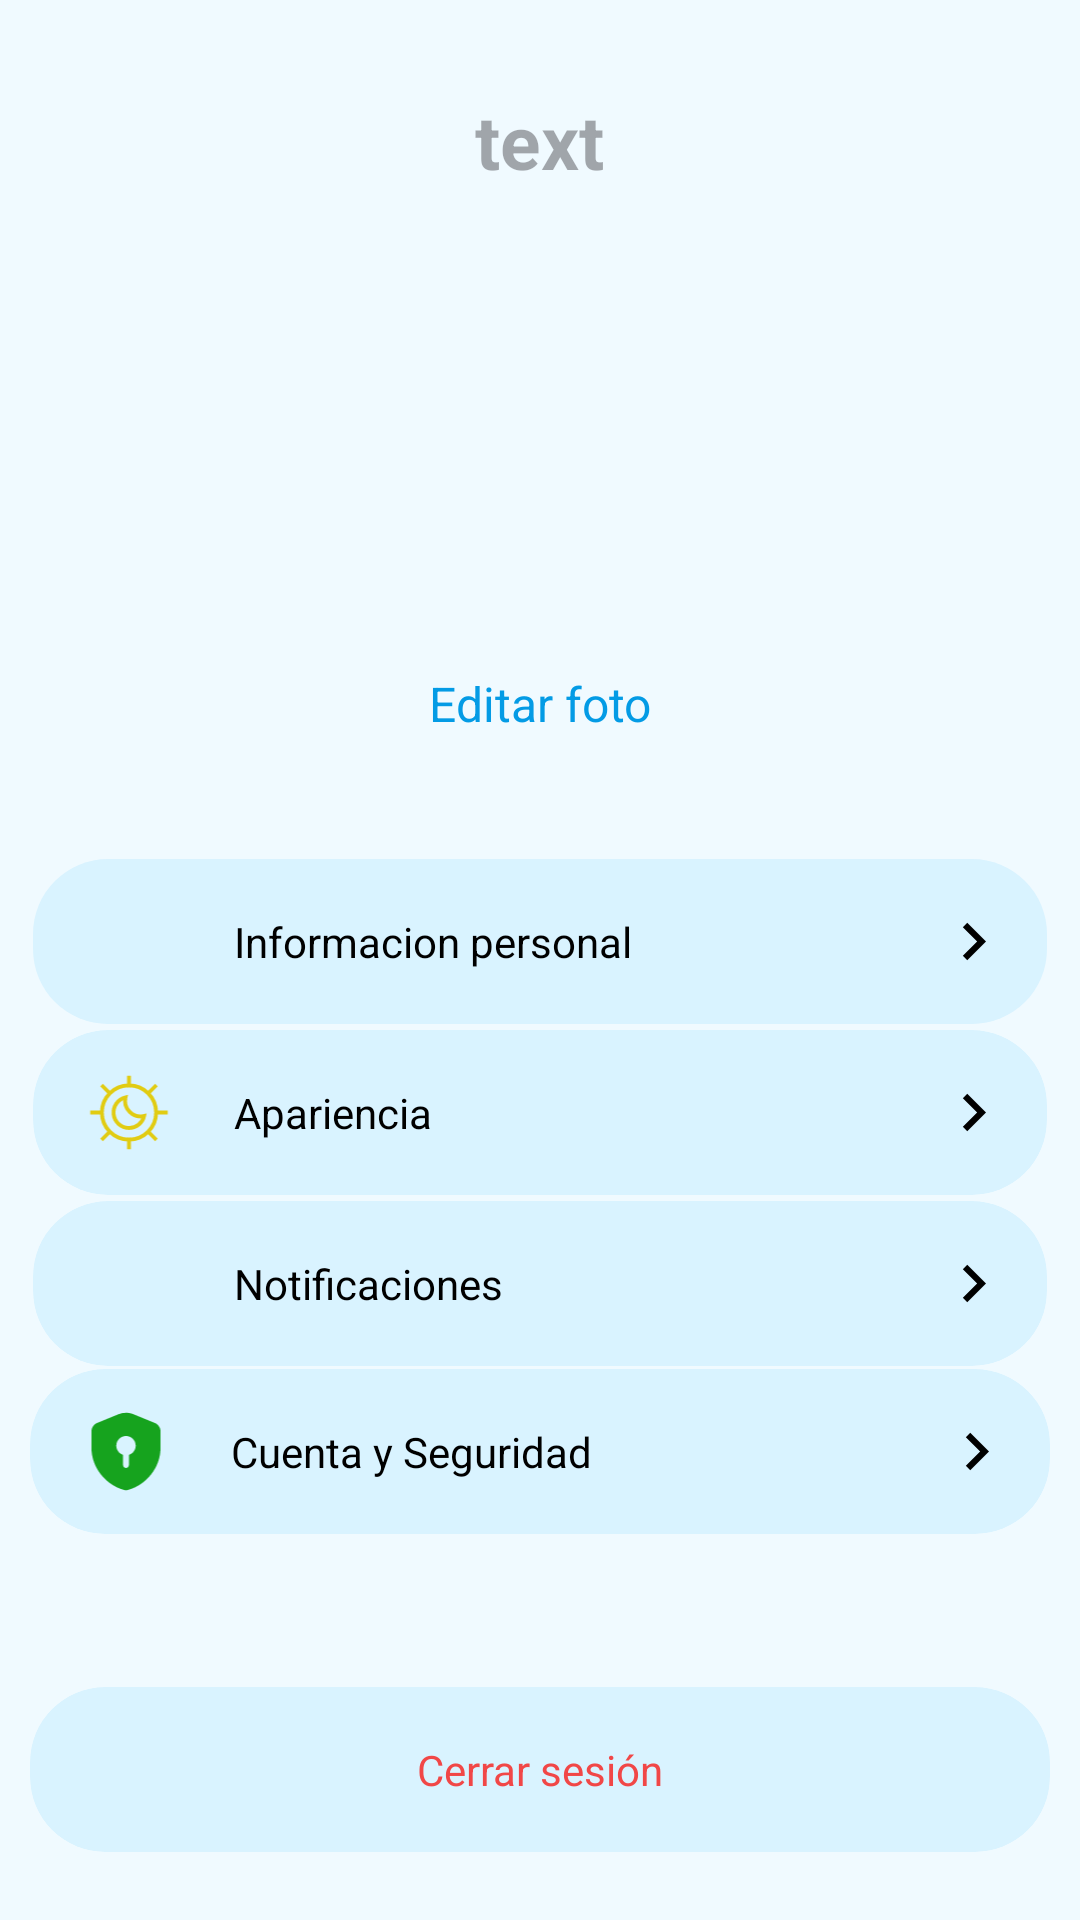

Point at icon controls on the screen. Image size 1080 x 1920, points as (x=x, y=y).
mode: (x=129, y=1112)
next: (x=974, y=941), (x=974, y=1112), (x=974, y=1283), (x=977, y=1451)
security: (x=126, y=1451)
